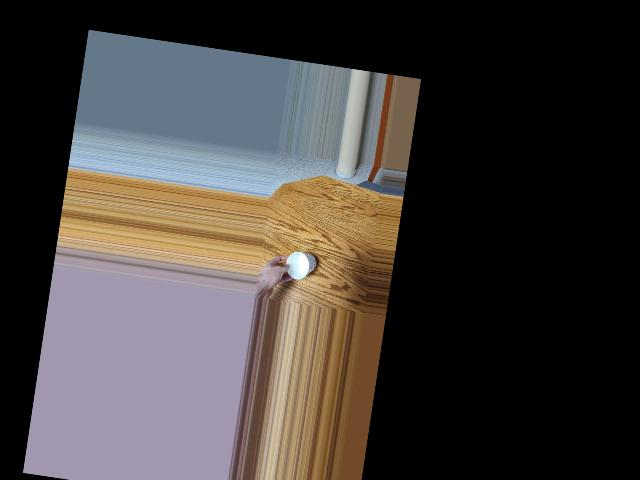cotage: (280, 247, 315, 281)
